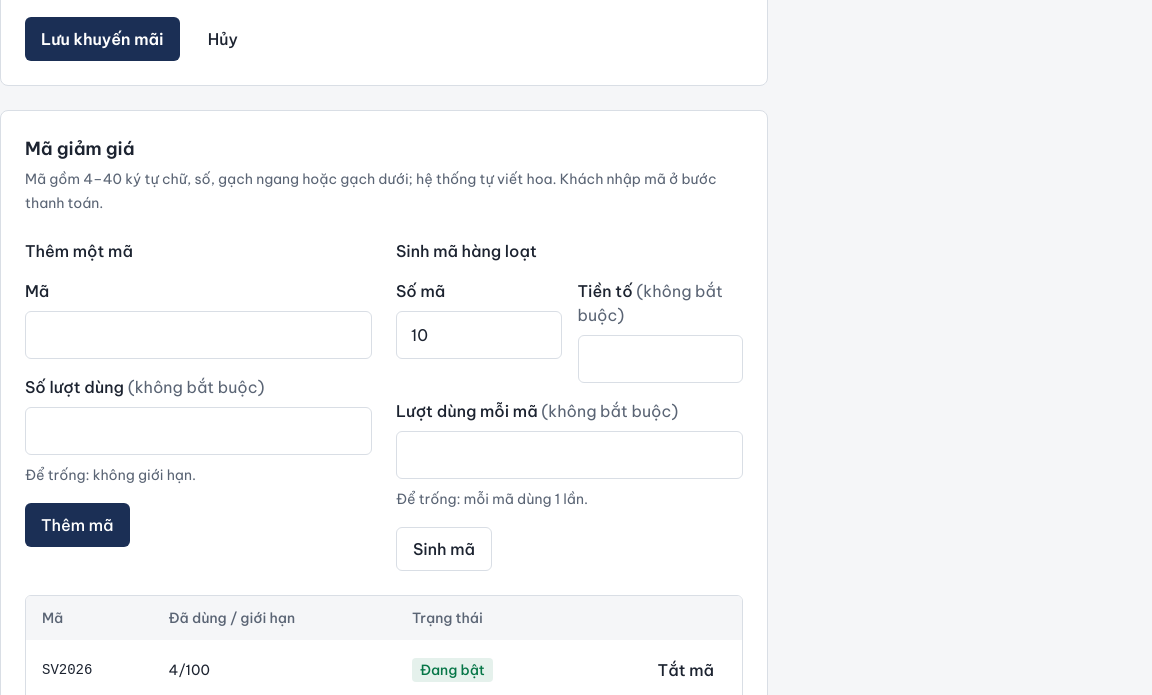
Scenario: PromotionEdit › chương trình dùng mã: liệt kê mã, thêm mã, sinh hàng loạt và tắt mã
The image size is (1152, 695).
(page scrolled)
In the field labelled "Mã": (198, 335) left=25, top=311, right=372, bottom=359, type "moi2026"
In the field labelled "Số lượt dùng (không bắt buộc)": (198, 431) left=25, top=407, right=372, bottom=455, type "5"
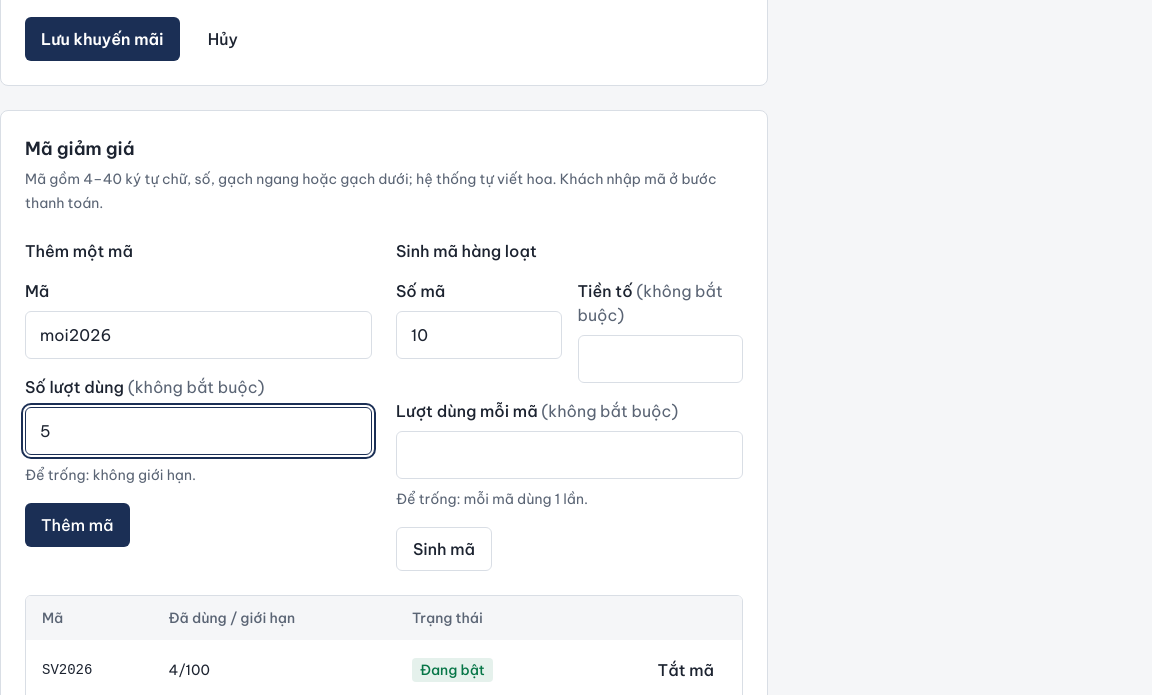
Click the button "Thêm mã": (77, 525) left=25, top=503, right=130, bottom=547
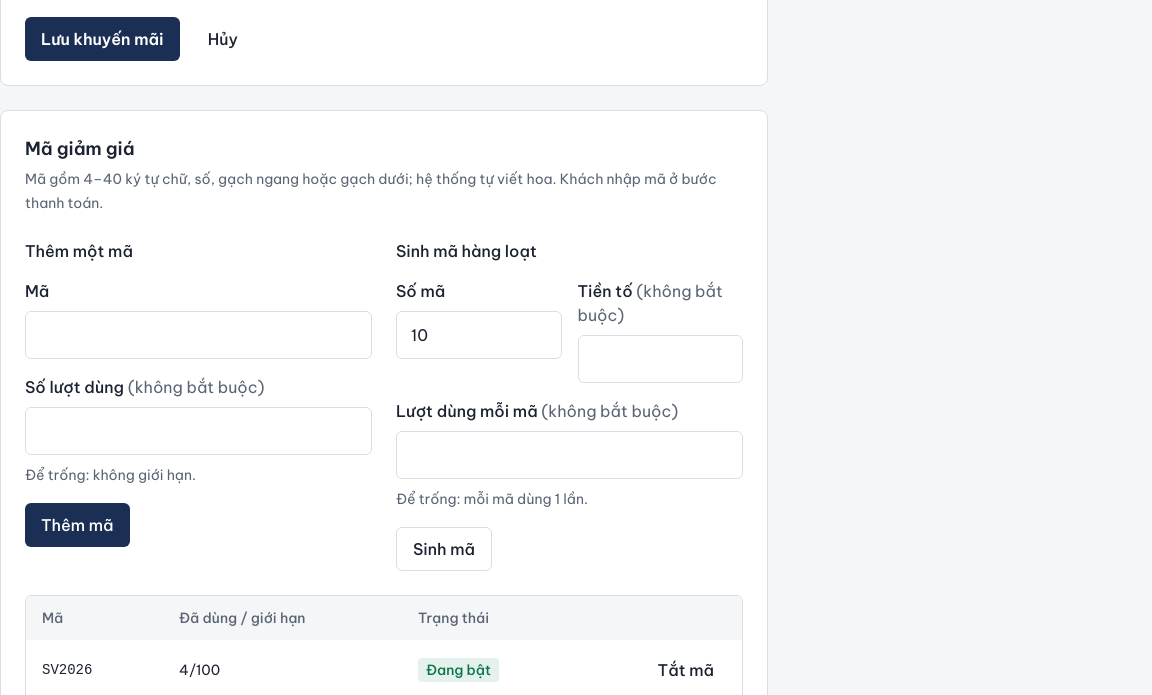
Replace the text in the field labelled "Số mã" with "2": (479, 335) left=396, top=311, right=562, bottom=359
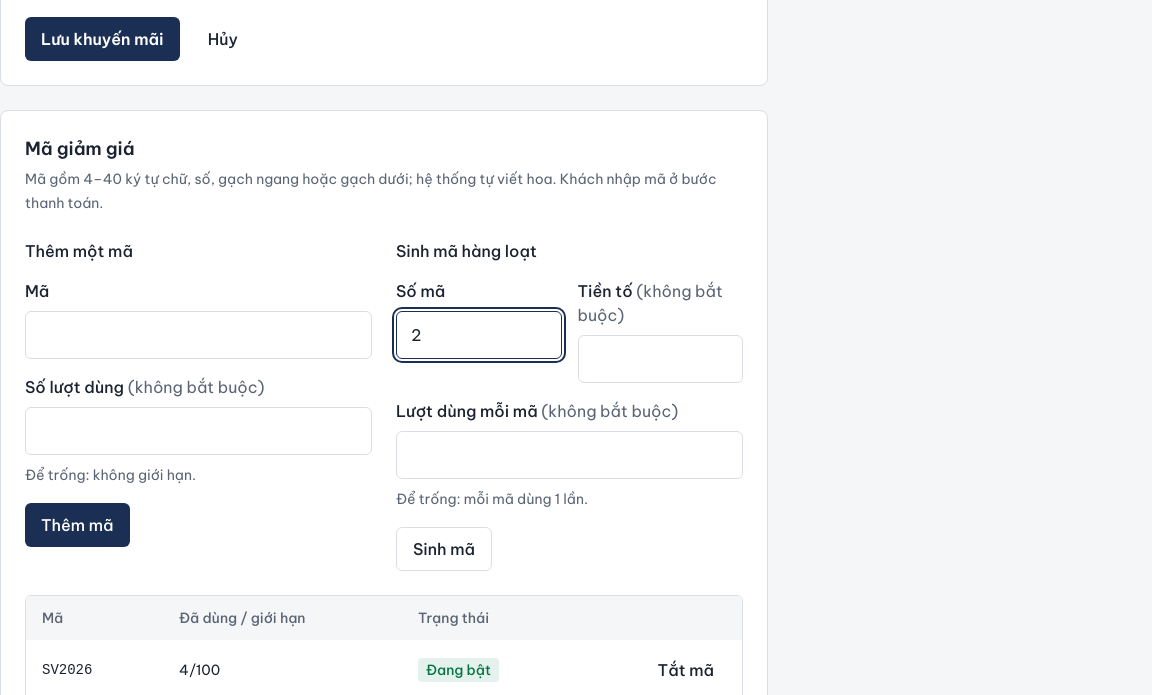
In the field labelled "Tiền tố (không bắt buộc)": (660, 359) left=578, top=335, right=743, bottom=383, type "tet-"
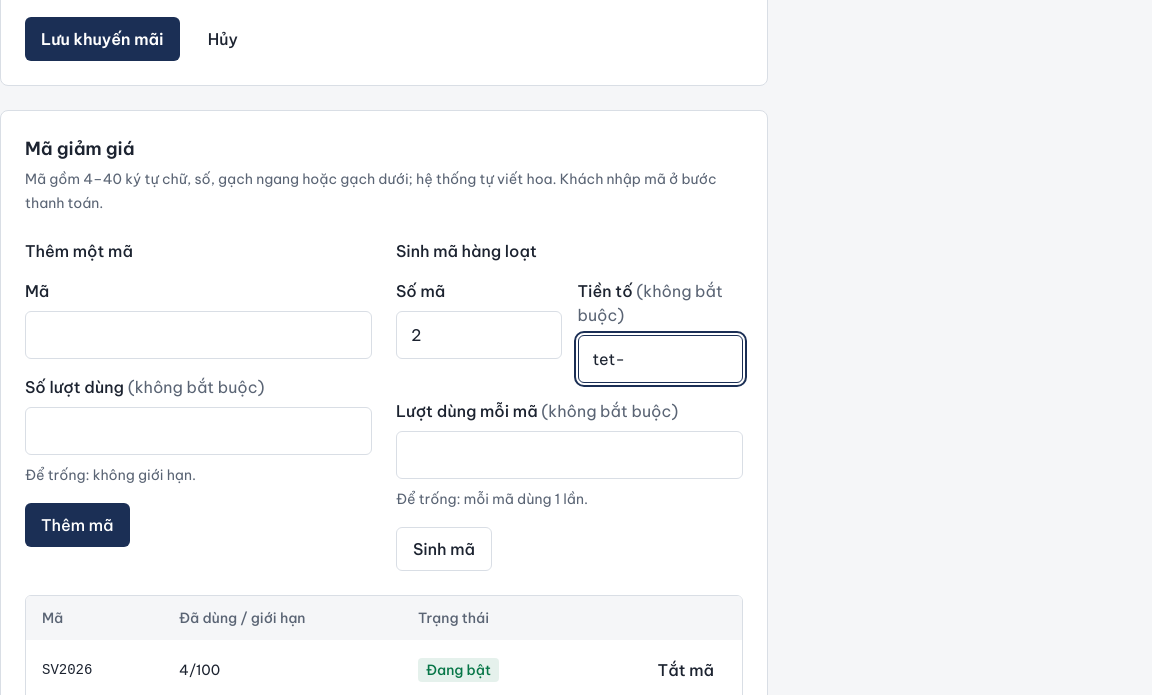
Click the button "Sinh mã": (444, 549) left=396, top=527, right=492, bottom=571
(page scrolled)
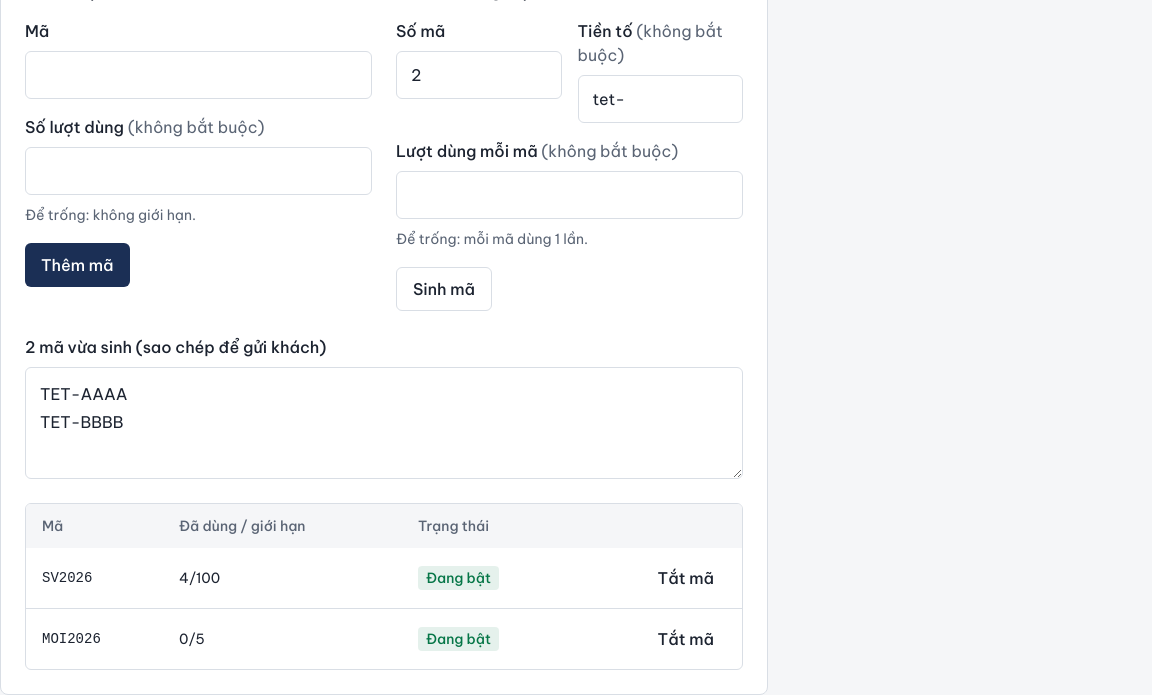
Click the button with aria-label "Tắt mã SV2026": (686, 578) left=646, top=560, right=726, bottom=596
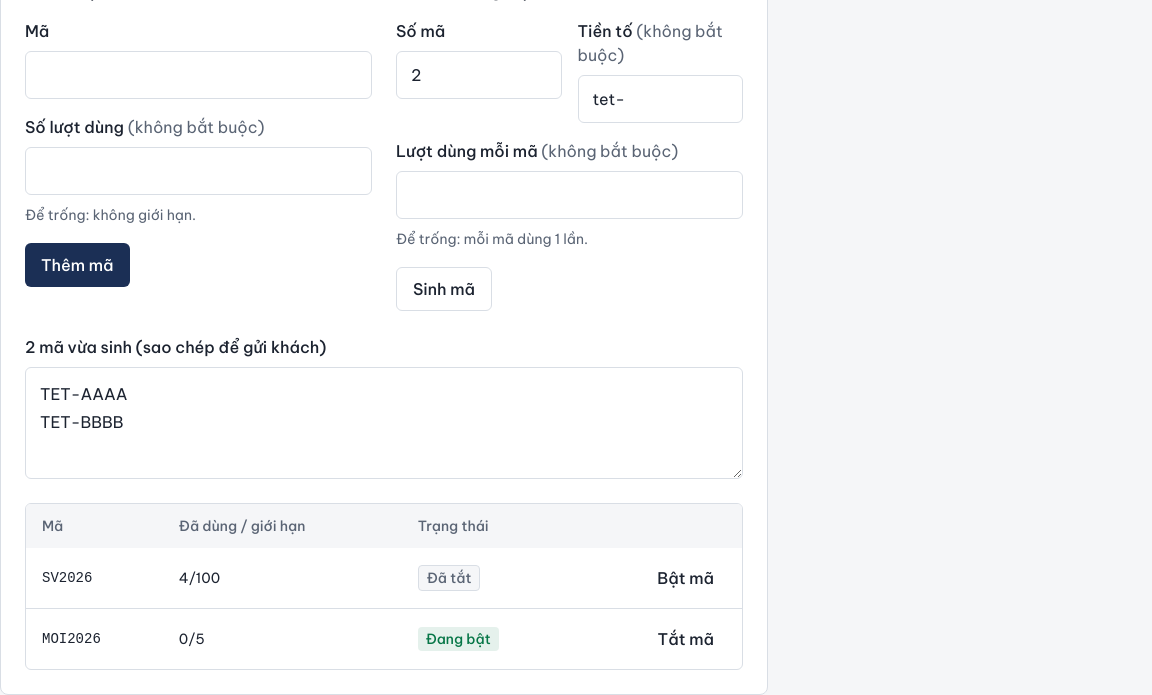
Check: the text "Đã tắt" is shown, box left=418, top=565, right=480, bottom=591
